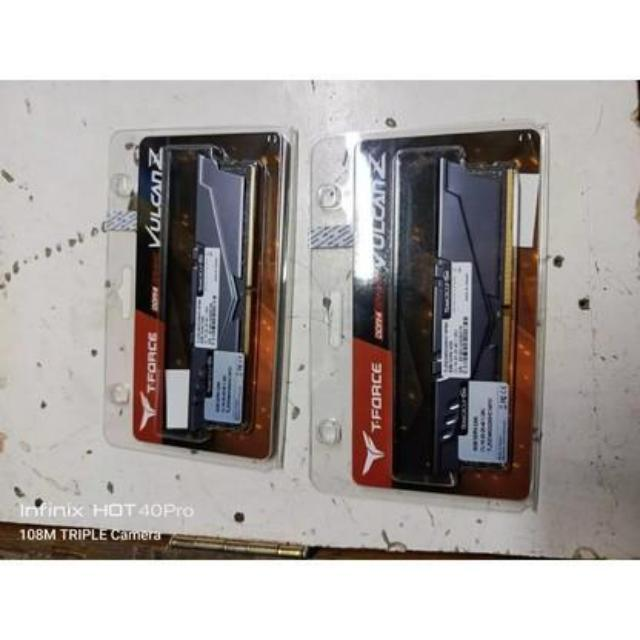RAM: (432, 152, 518, 474), (192, 154, 258, 432)
